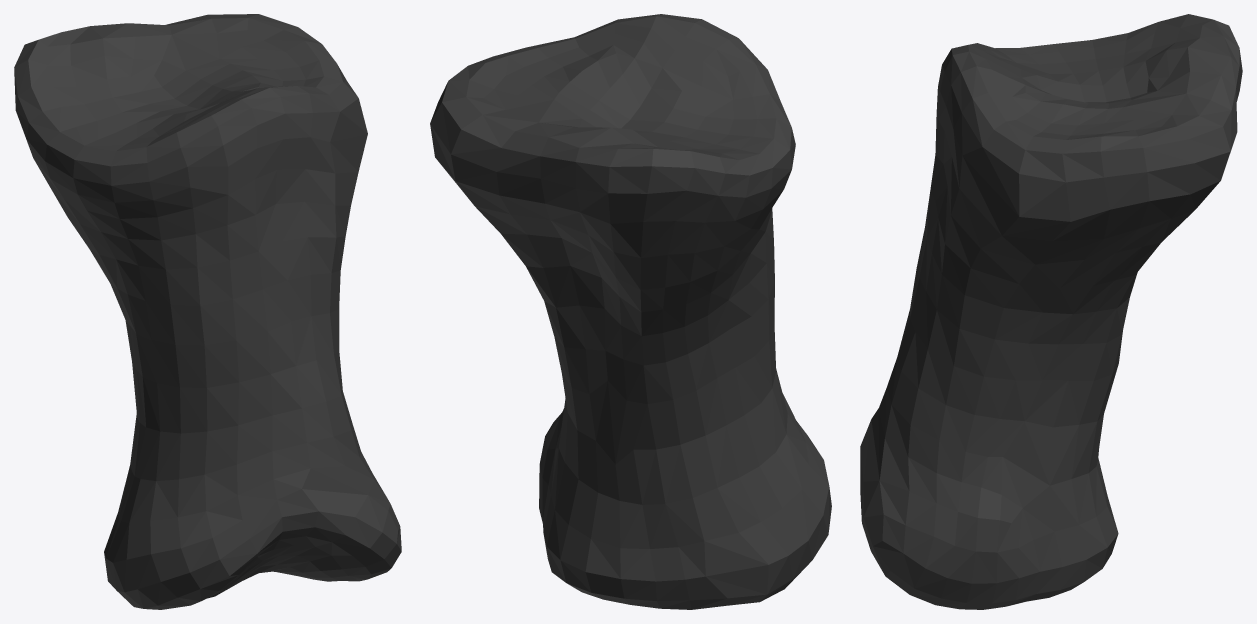
The picture shows the model from 3 angles, left to right: view 1: azimuth 30°, elevation 25°; view 2: azimuth 150°, elevation 25°; view 3: azimuth 270°, elevation 25°; orthographic projection. The views are drawn at different scales.
Visible parts, largest first — view 1: HL_P1_L; view 2: HL_P1_L; view 3: HL_P1_L.
Part boxes in pixels (x1,y1,x2,y2): HL_P1_L: [14, 14, 401, 609]; HL_P1_L: [430, 14, 831, 609]; HL_P1_L: [860, 14, 1242, 609].
Bounding box in the file's own units: 0.0824 × 0.137 × 0.0929.
Materials: 1 (1 with a texture image).
